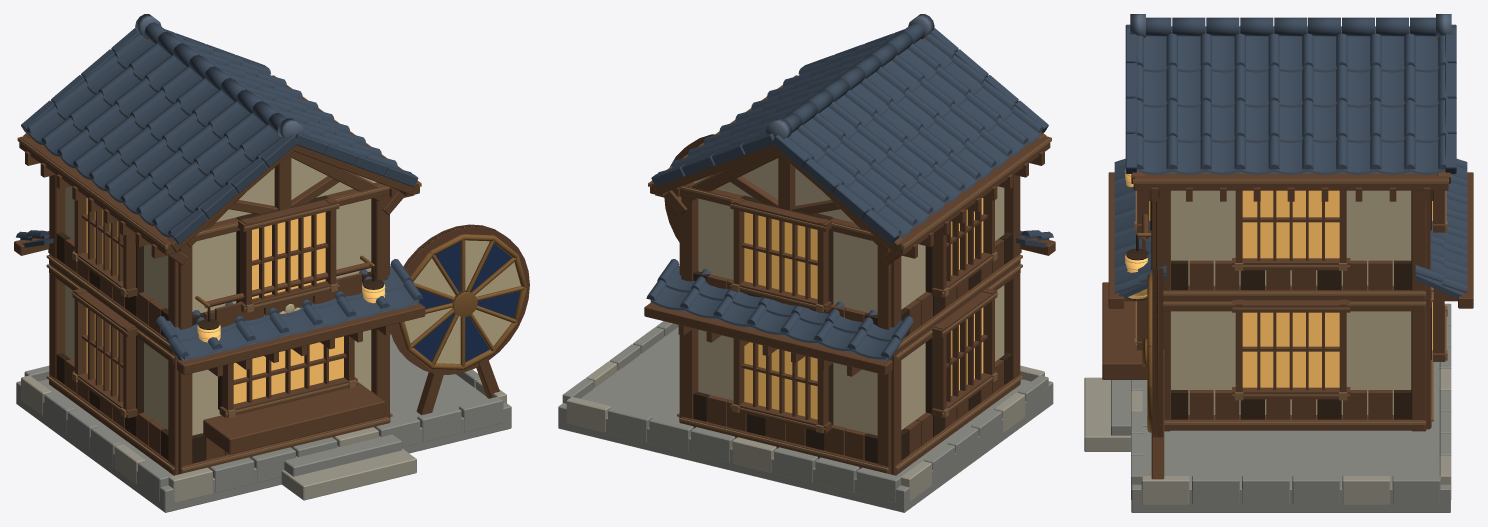
3 renders of one model, left to right at view 1: azimuth 30°, elevation 25°; view 2: azimuth 150°, elevation 25°; view 3: azimuth 270°, elevation 25°, orthographic. The views are drawn at different scales.
Visible parts, largest first — view 1: compact_chance_wheel_geometry, compact_chance_wheel_geometry ceramic, compact_wheel_geometry; view 2: compact_chance_wheel_geometry, compact_chance_wheel_geometry ceramic, compact_wheel_geometry; view 3: compact_chance_wheel_geometry, compact_chance_wheel_geometry ceramic, compact_wheel_geometry.
Boxes of the visible parts, box(x1,y1,x2,y2) form: compact_chance_wheel_geometry: box(14, 38, 511, 512); compact_chance_wheel_geometry ceramic: box(16, 14, 423, 361); compact_wheel_geometry: box(391, 224, 529, 374); compact_chance_wheel_geometry: box(558, 38, 1055, 512); compact_chance_wheel_geometry ceramic: box(646, 14, 1053, 361); compact_wheel_geometry: box(664, 134, 714, 242); compact_chance_wheel_geometry: box(1084, 37, 1473, 512); compact_chance_wheel_geometry ceramic: box(1114, 14, 1467, 298); compact_wheel_geometry: box(1142, 268, 1163, 437).
Bounding box in the file's own units: 1.04 × 0.9492 × 0.8716.
